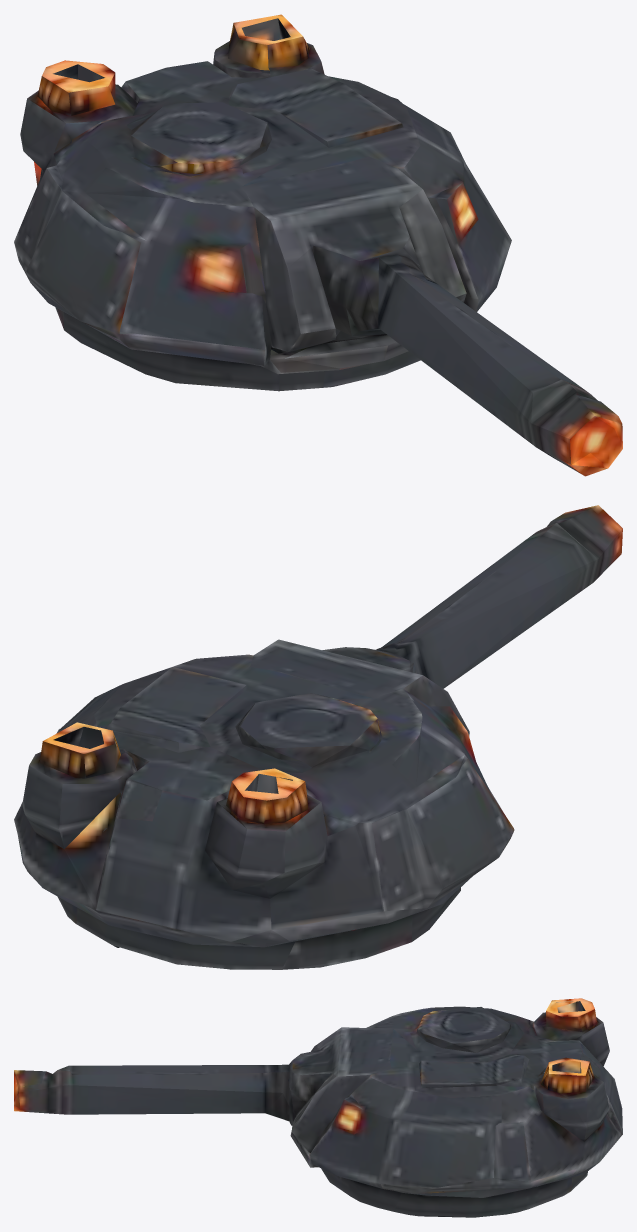
The model's file is gun-tank.glb.
3 views of the same model, one above another, from view 1: azimuth 30°, elevation 25°; view 2: azimuth 150°, elevation 25°; view 3: azimuth 270°, elevation 25° (orthographic). The views are drawn at different scales.
Visible parts, largest first — view 1: 54531a45-b2a2-432c-8a85-f91ec18d868a_texturing.obj; view 2: 54531a45-b2a2-432c-8a85-f91ec18d868a_texturing.obj; view 3: 54531a45-b2a2-432c-8a85-f91ec18d868a_texturing.obj.
Part boxes in pixels (<box>): 54531a45-b2a2-432c-8a85-f91ec18d868a_texturing.obj: <box>14,14,622,476</box>; 54531a45-b2a2-432c-8a85-f91ec18d868a_texturing.obj: <box>14,505,622,969</box>; 54531a45-b2a2-432c-8a85-f91ec18d868a_texturing.obj: <box>14,998,622,1217</box>.
Bounding box in the file's own units: 1.04 × 0.4471 × 1.98.
Materials: 1 (1 with a texture image).
